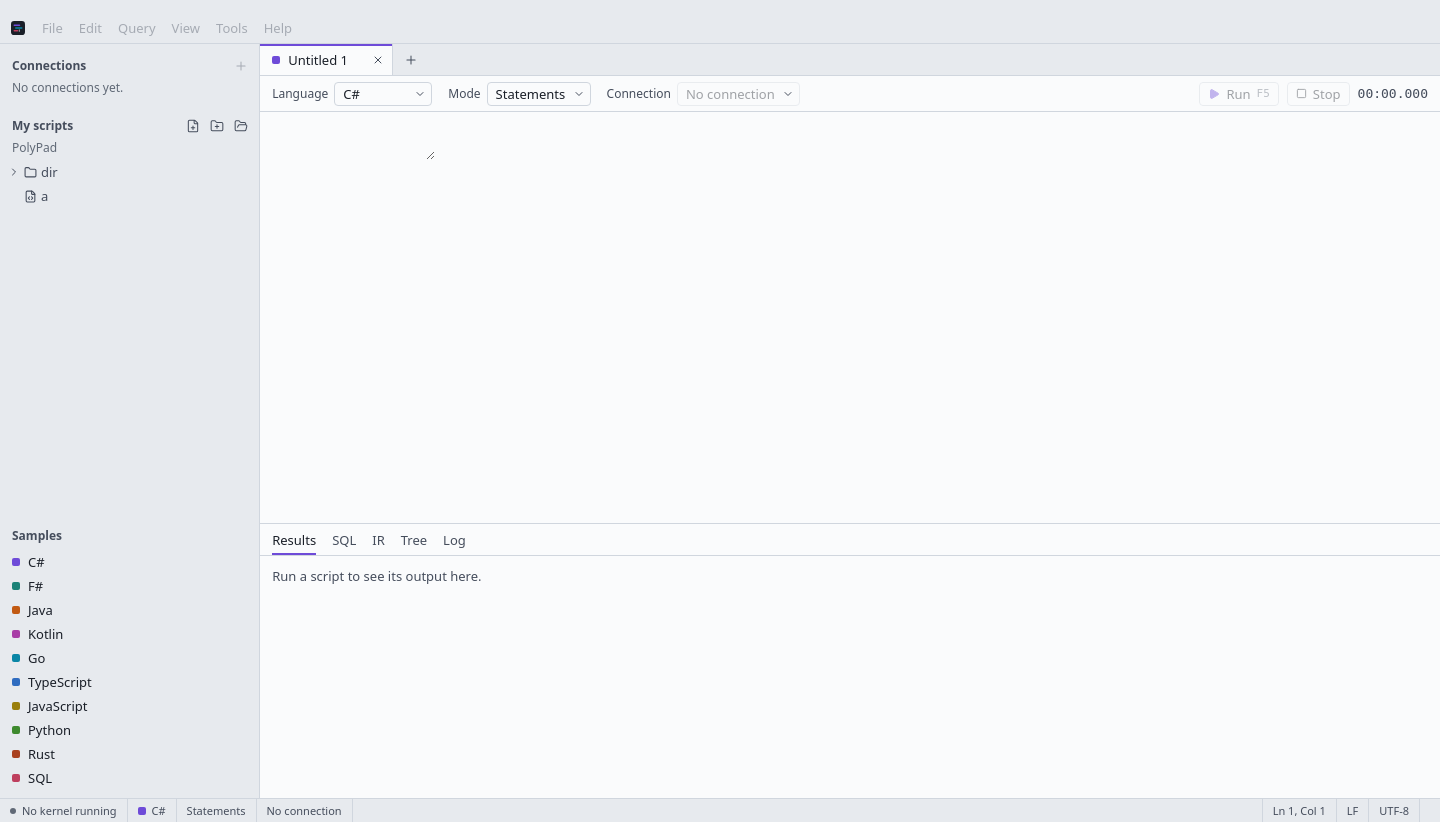
it: the scripts folder › shows why an action failed
Clear the text box named "Editor text" at (348, 140), box x1=260 y1=120 x2=435 y2=160
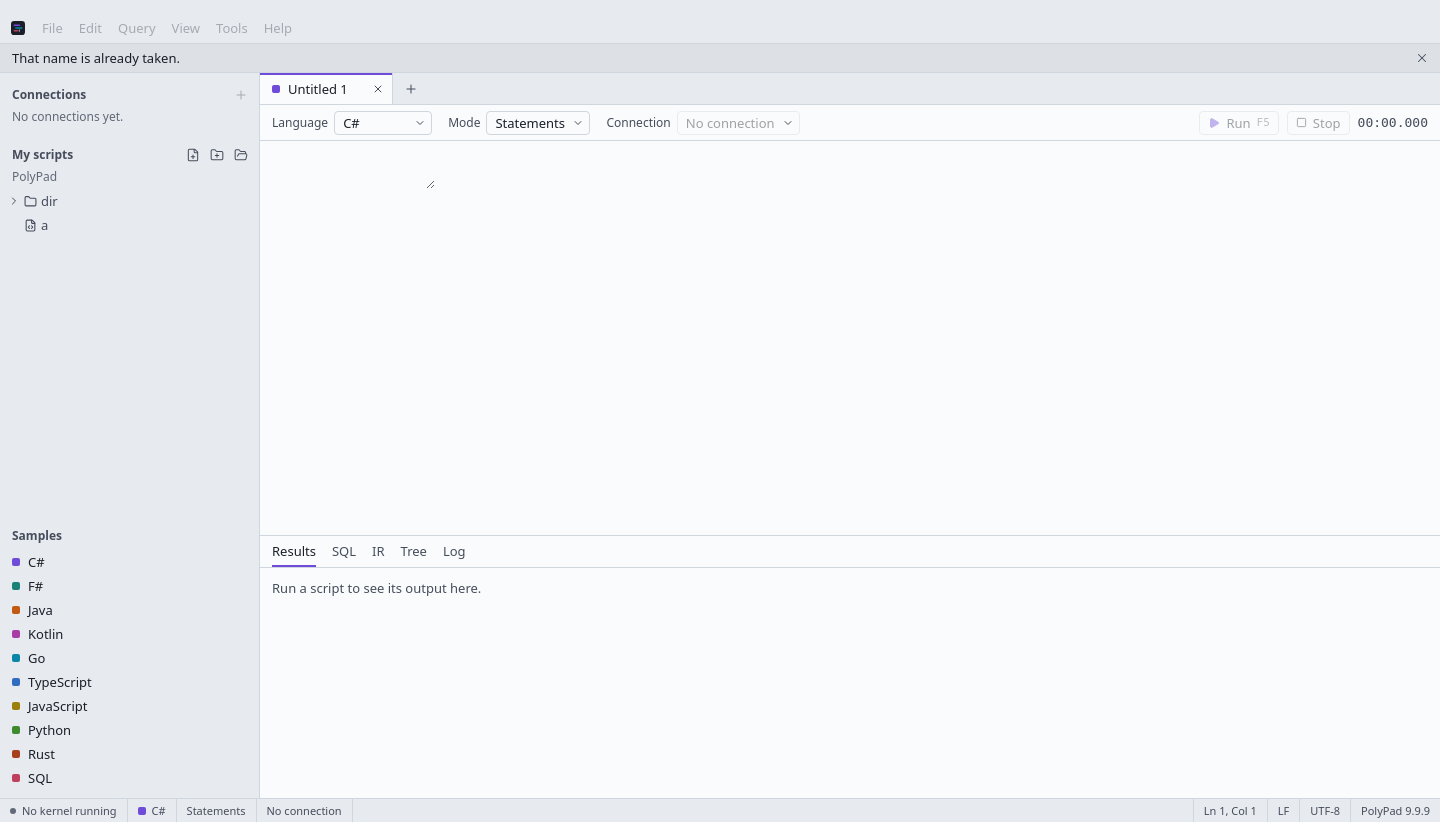
Expected: the element named "Open scripts" is shown, x1=260 y1=73 x2=393 y2=104
Expected: the message reads "That name is already taken.", x1=12 y1=49 x2=180 y2=67
